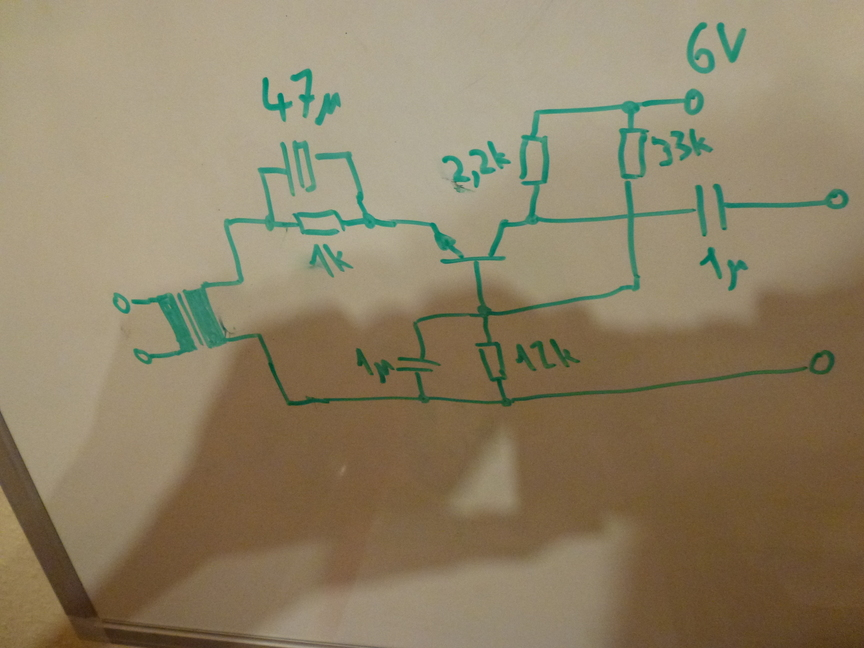capacitor.polarized: (278, 137, 324, 199)
capacitor.unpolarized: (688, 180, 740, 239), (395, 347, 440, 381)
crossover: (621, 208, 641, 227)
junction: (470, 301, 498, 322), (260, 210, 283, 235), (357, 210, 380, 232), (617, 98, 642, 118), (625, 274, 646, 297), (496, 393, 518, 413), (523, 210, 542, 230), (253, 160, 271, 179), (413, 390, 433, 407), (528, 104, 547, 121), (251, 326, 268, 342), (279, 397, 297, 412), (233, 273, 248, 290), (219, 215, 236, 230), (408, 314, 424, 329), (340, 147, 356, 162)
resistor: (515, 126, 555, 191), (288, 205, 351, 239), (616, 123, 650, 185), (473, 337, 511, 386)
terminal: (803, 346, 840, 380), (817, 183, 855, 215), (677, 84, 711, 119), (109, 287, 139, 317), (130, 340, 156, 369)
text: (257, 64, 348, 129), (683, 16, 750, 76), (438, 138, 513, 189), (512, 334, 585, 374), (649, 126, 716, 169), (697, 244, 752, 294), (306, 239, 355, 280), (352, 345, 395, 385)
transformer: (156, 280, 232, 353)
transistor: (423, 215, 519, 271)
